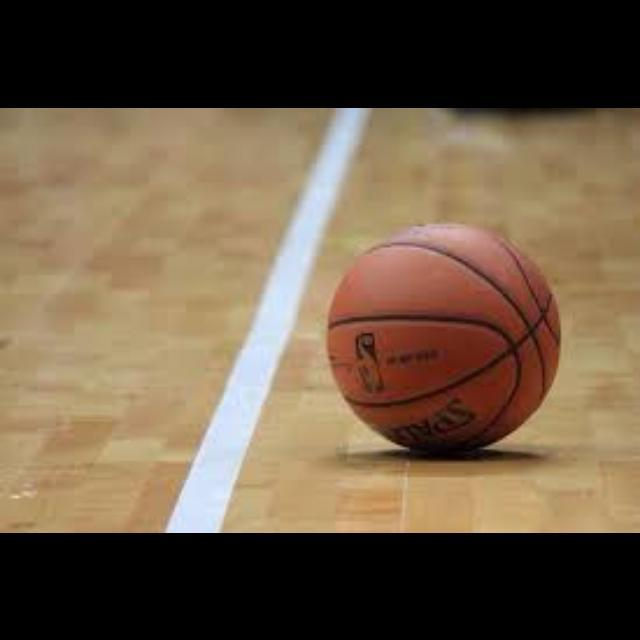basketball: (330, 226, 564, 446)
